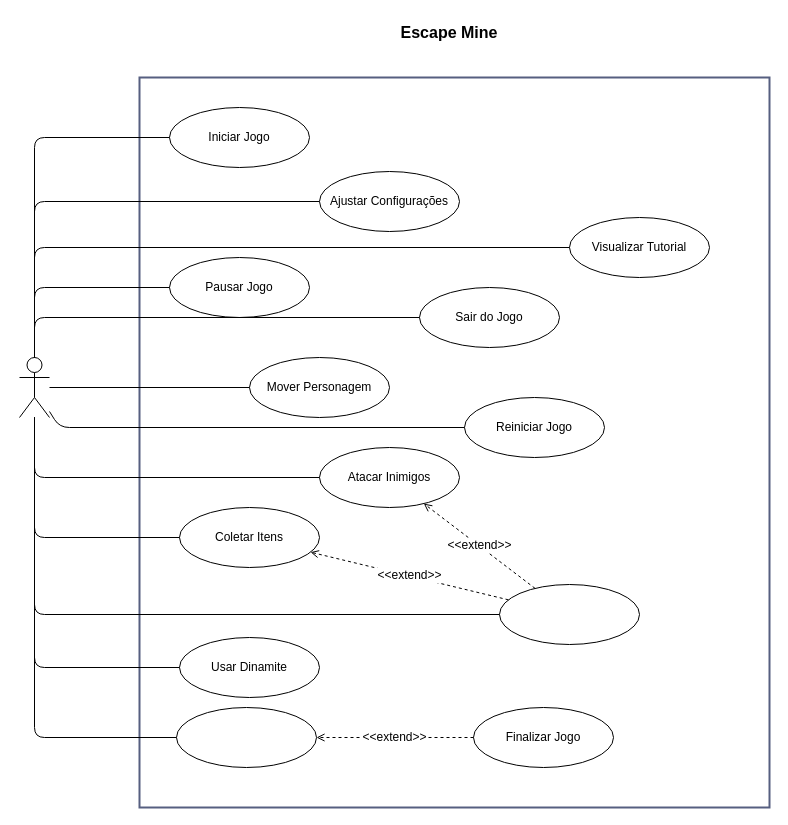
This 788x825 diagram has some shape labels left out. The shapes that lost their labels are listed below. From the top down, each one's box as (x1, y1, x2, y2) in pixels, then its label:
(18, 356, 50, 418): Player
(498, 584, 640, 644): Subir de Nível
(176, 706, 316, 768): Abrir Porta
